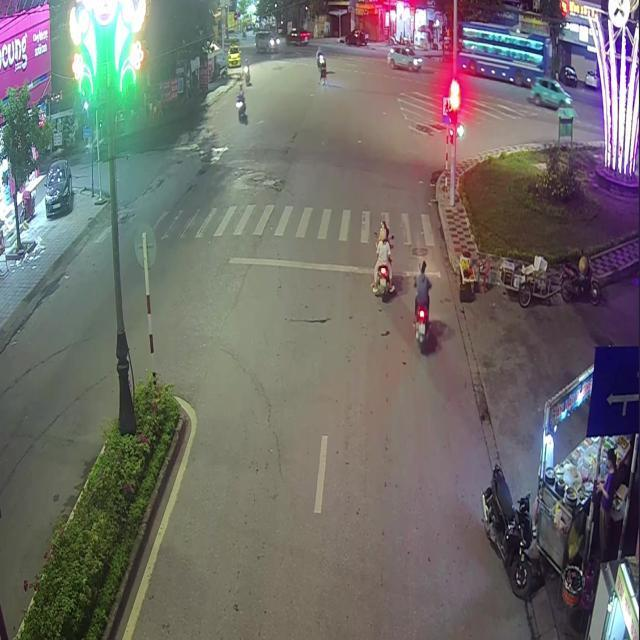motobike: (414, 306, 429, 351), (375, 264, 392, 300)
red_light: (450, 92, 457, 125)
stop_line: (226, 256, 440, 277)
